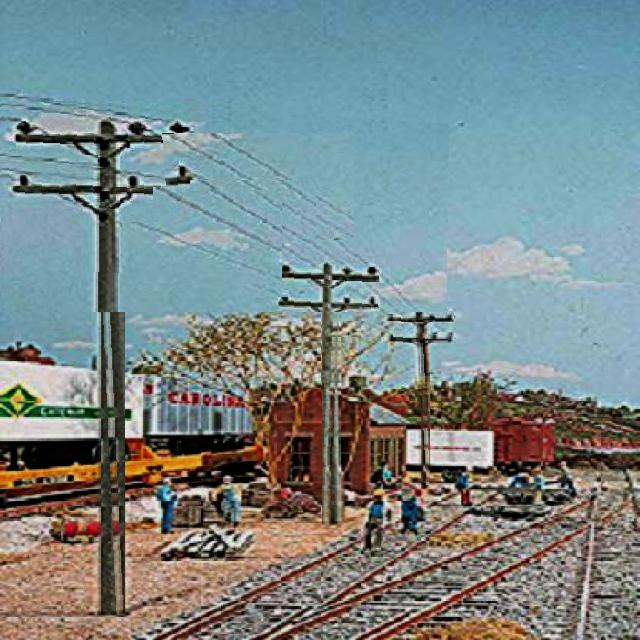crossarm: (17, 111, 186, 145), (18, 169, 186, 194), (282, 277, 379, 292), (282, 248, 384, 259), (393, 311, 454, 322), (392, 334, 454, 343)
pole: (96, 112, 125, 614), (322, 245, 337, 525), (418, 306, 430, 485)
wire: (2, 98, 430, 312), (163, 133, 354, 241), (122, 222, 282, 284), (190, 181, 316, 247), (154, 188, 282, 251), (0, 154, 98, 166)
